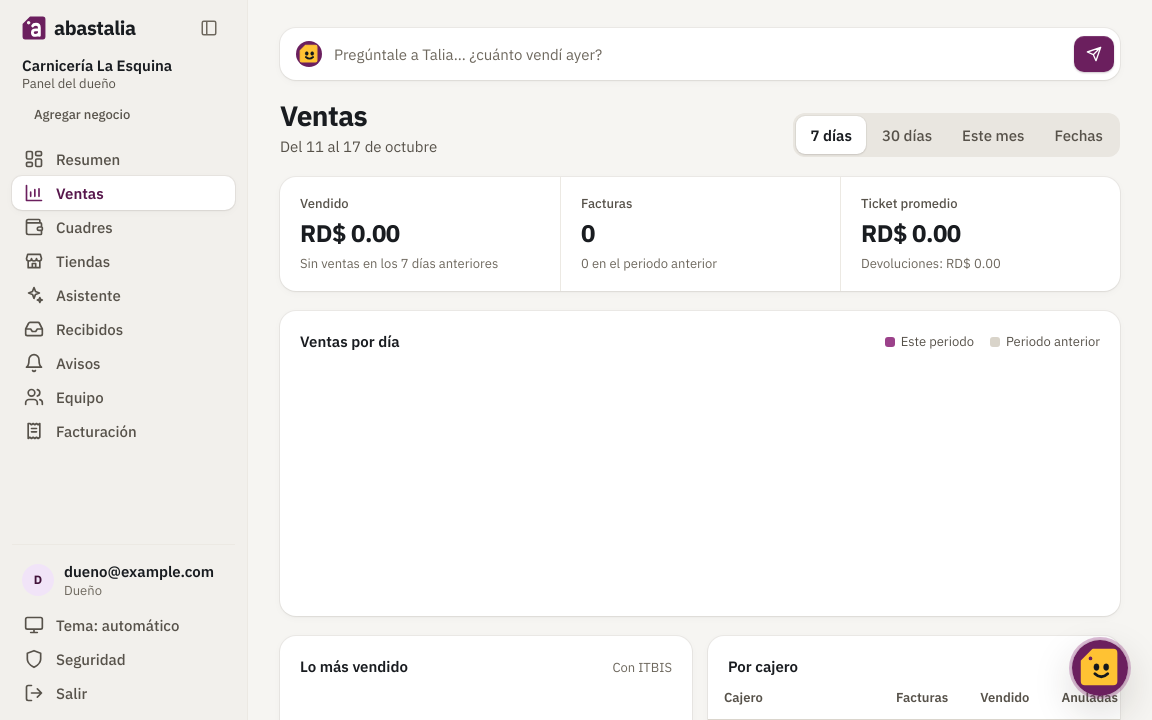
Scenario: TK-300: Talia's button opens the chat as a dialog; Esc closes it and the conversation stays
Click the button named "Pregúntale a Talia" at coordinates (1100, 668), box top-left (1072, 640), bottom-right (1128, 696)
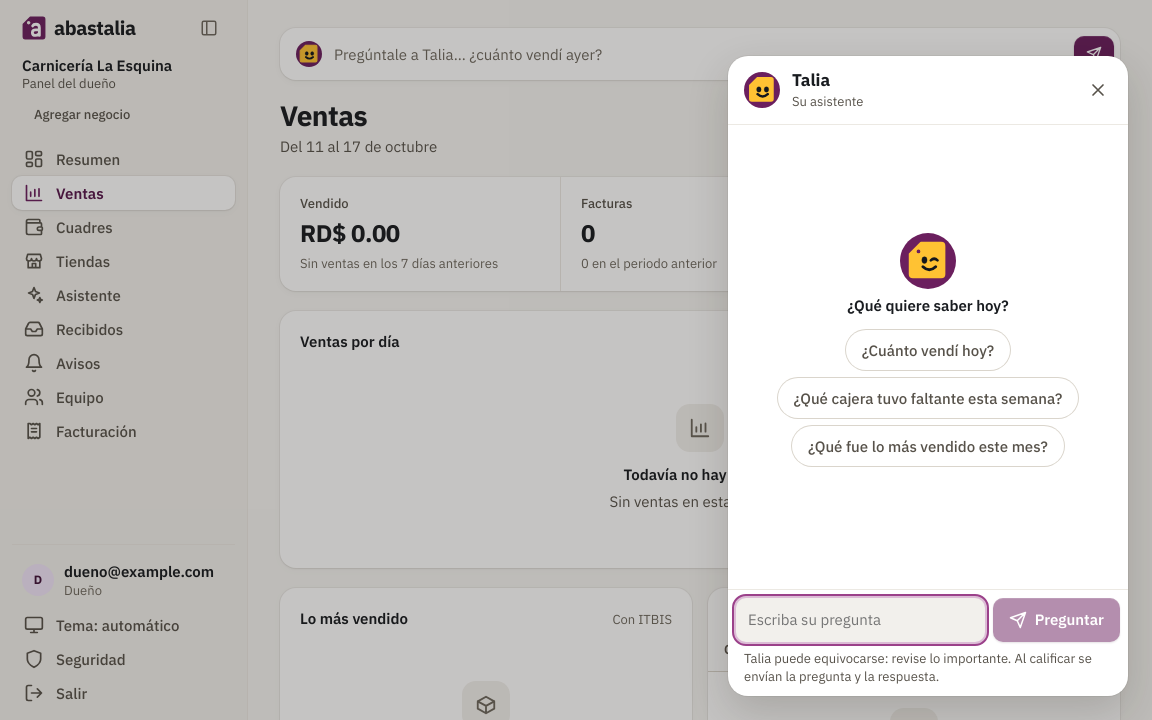
Type "¿Cuánto vendí hoy?" into the field labelled "su pregunta" at coordinates (860, 620), box top-left (736, 598), bottom-right (985, 642)
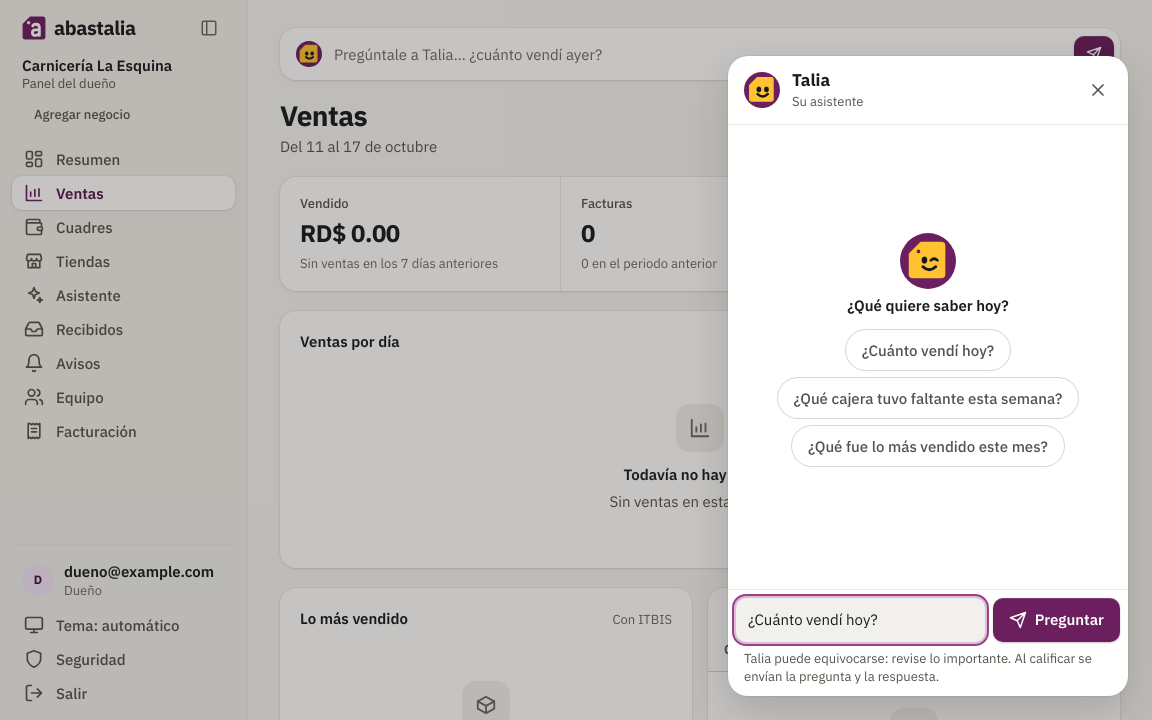
Click the button "Preguntar" at coordinates (1056, 620), box top-left (993, 598), bottom-right (1120, 642)
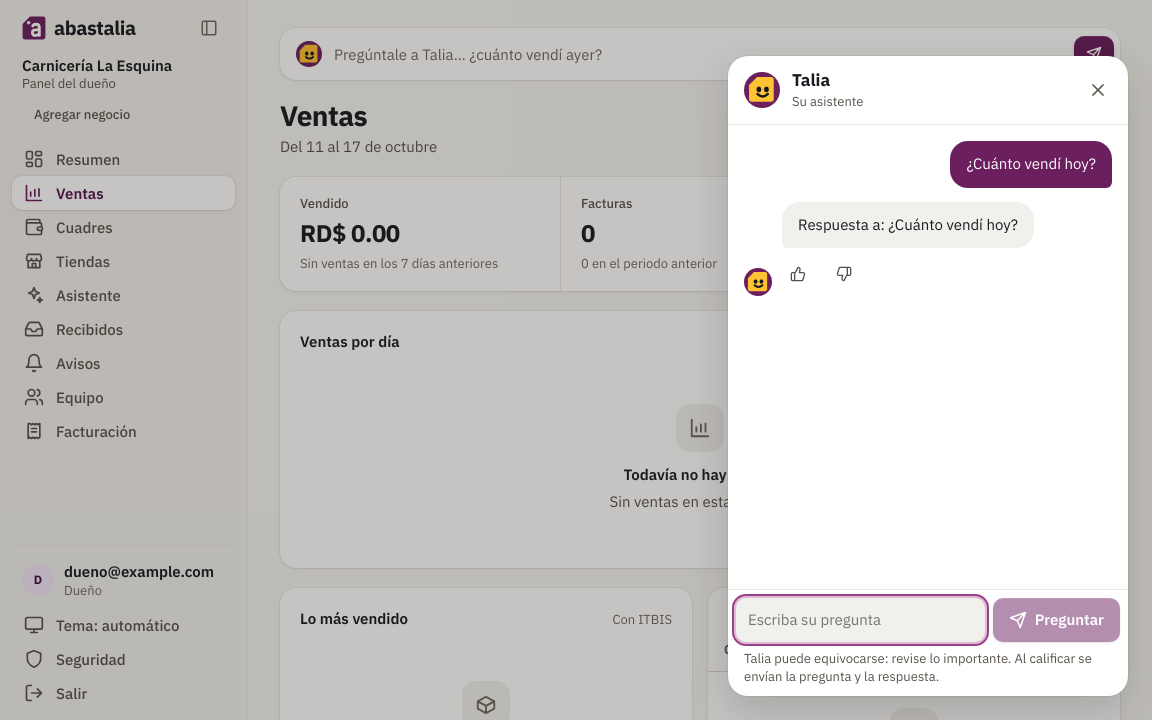
Expected: the text "Respuesta a: ¿Cuánto vendí hoy?" is shown, top-left (782, 202), bottom-right (1034, 248)
Press Escape in the dialog "Talia", box top-left (728, 56), bottom-right (1128, 696)
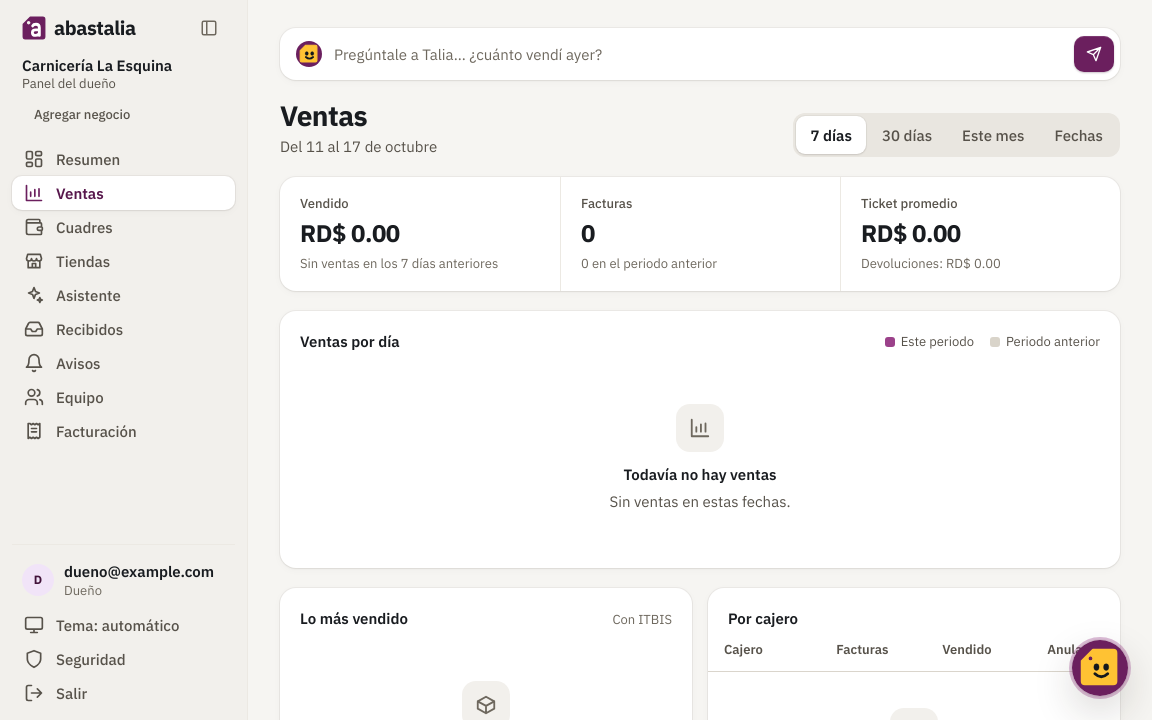
Expected: the dialog is gone
Click the button named "Pregúntale a Talia" at coordinates (1100, 668), box top-left (1072, 640), bottom-right (1128, 696)
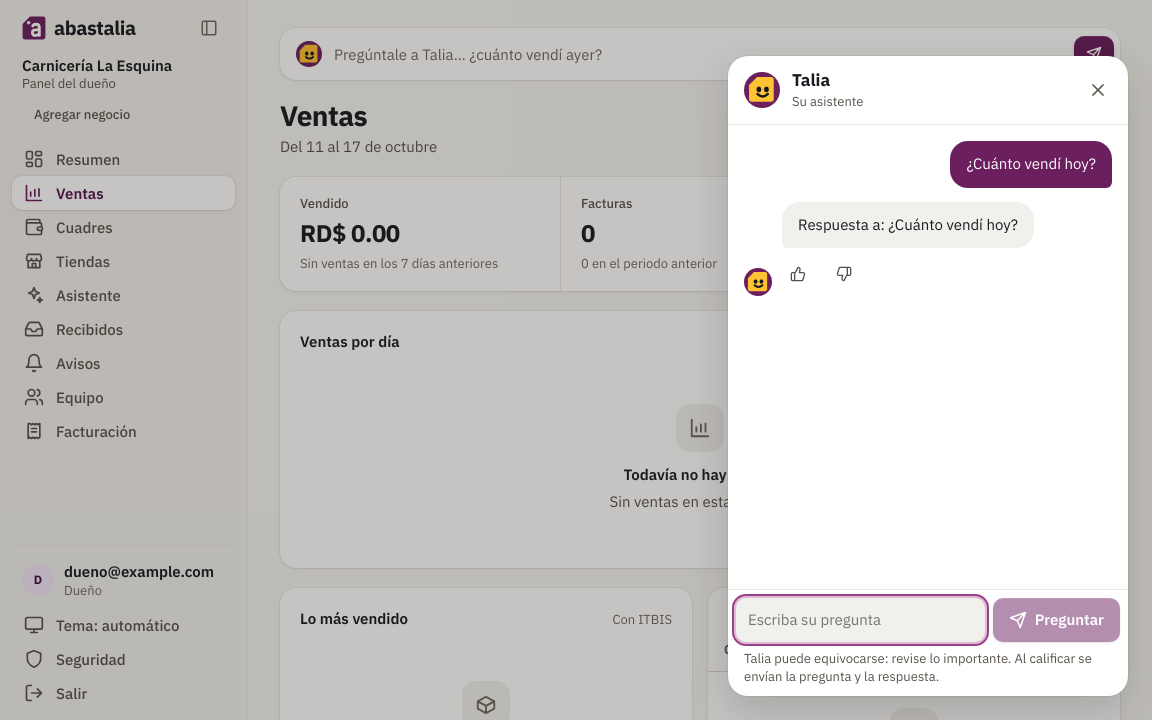
Expected: the text "Respuesta a: ¿Cuánto vendí hoy?" is shown, top-left (782, 202), bottom-right (1034, 248)
